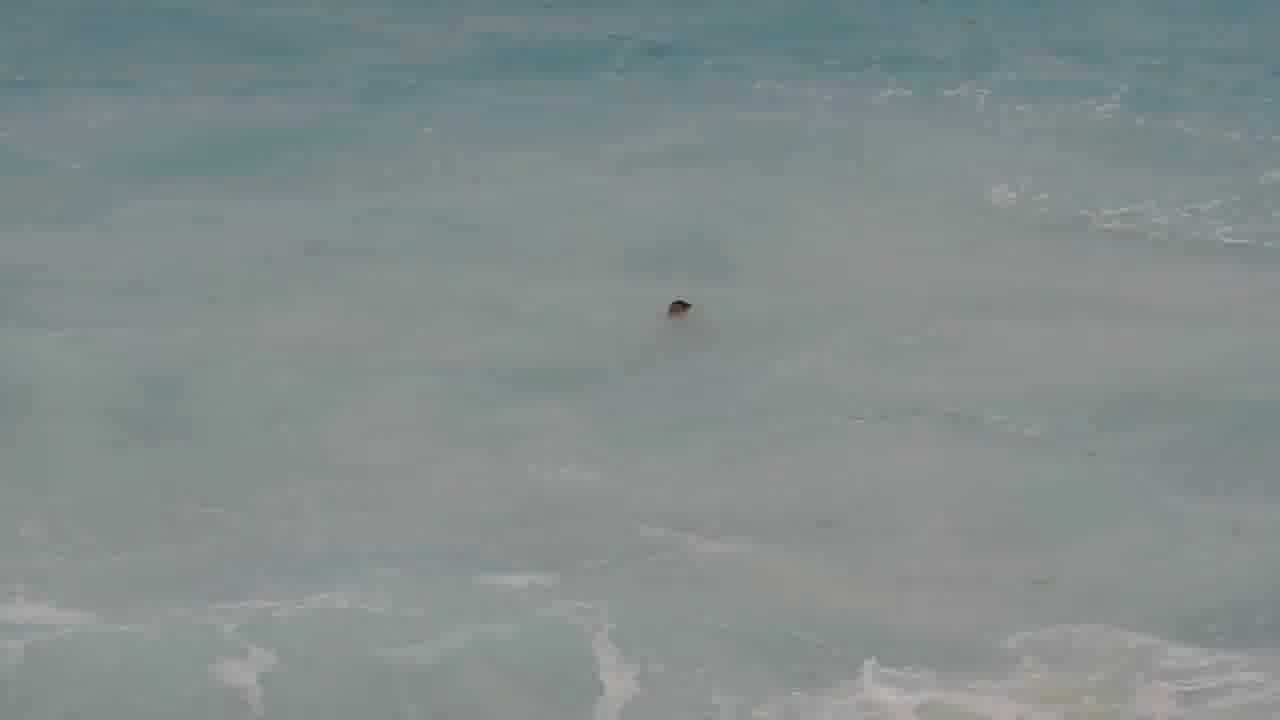human: (658, 292, 707, 321)
